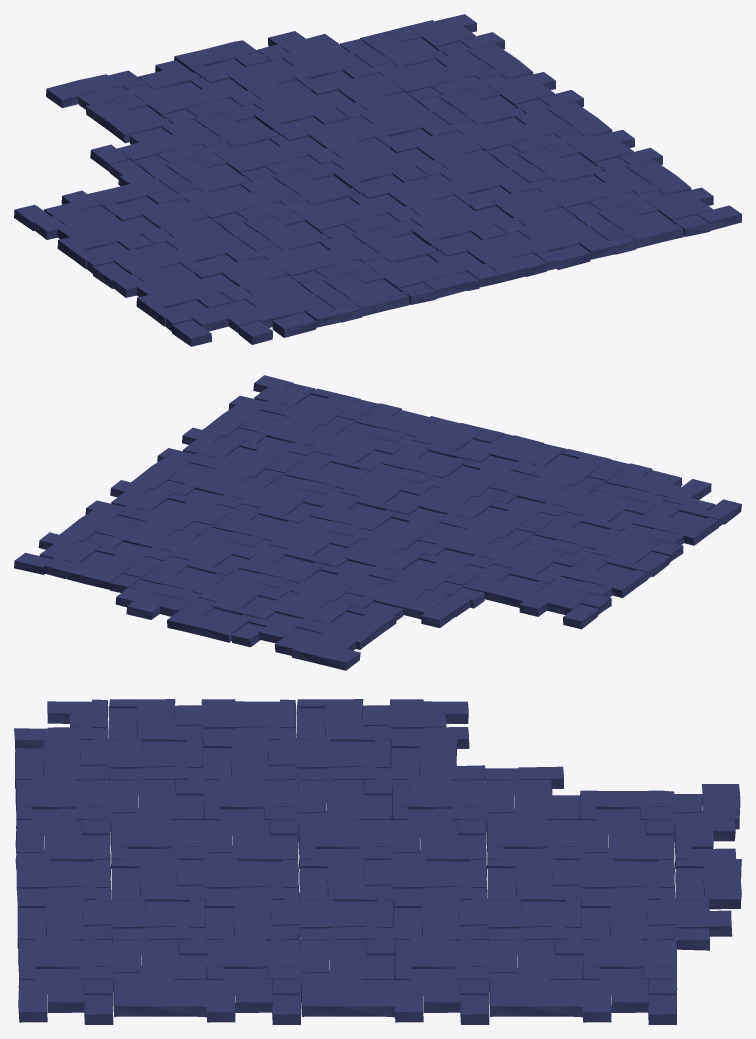
Rendered from Ground_Single32_lvl1_mod02.FBX.
3 renders of one model, top to bottom at view 1: azimuth 30°, elevation 25°; view 2: azimuth 150°, elevation 25°; view 3: azimuth 270°, elevation 25°, orthographic. The views are drawn at different scales.
Visible parts, largest first — view 1: Object132; view 2: Object132; view 3: Object132.
Part boxes in pixels (<box>): Object132: <box>14,14,741,346</box>; Object132: <box>14,375,741,670</box>; Object132: <box>14,699,741,1024</box>.
Bounding box in the file's own units: 316 × 6.12 × 310.
